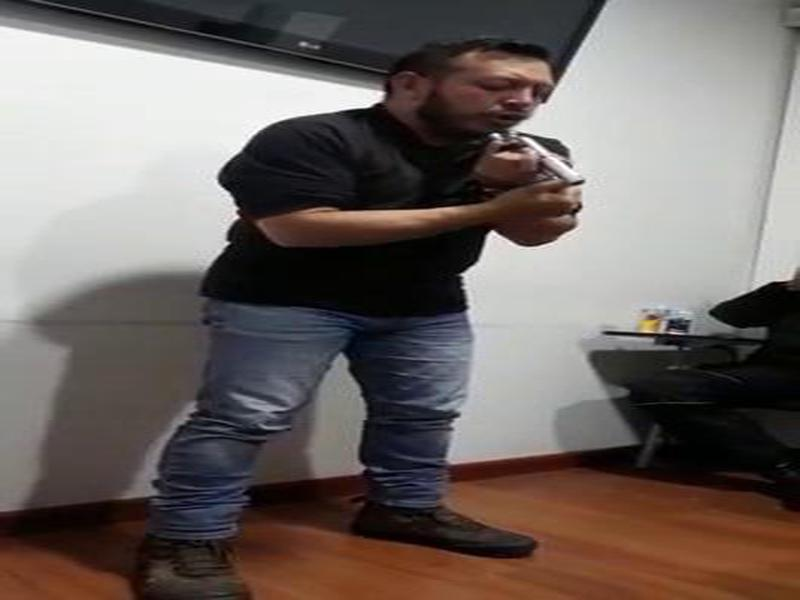Revolver: (484, 124, 607, 227)
